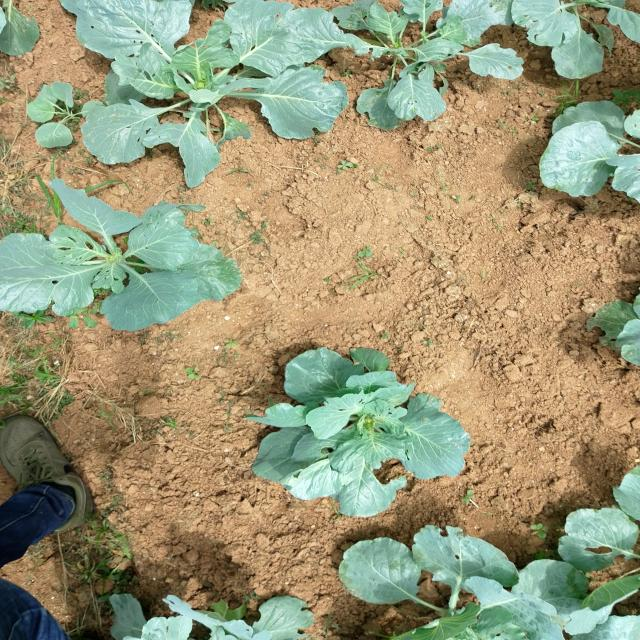Cabbage: (65, 0, 338, 182), (233, 340, 471, 512), (6, 163, 238, 339), (344, 0, 635, 140), (300, 540, 590, 638), (566, 443, 640, 638), (114, 583, 335, 640), (546, 100, 640, 194)
